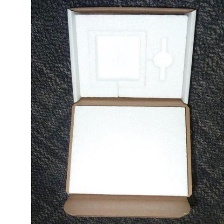foam_box: (66, 102, 191, 199), (71, 10, 191, 102)
